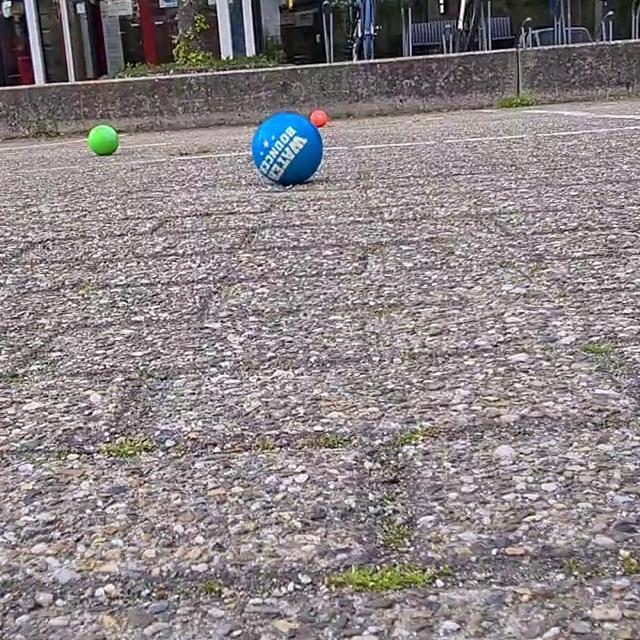ball: (84, 120, 121, 164), (308, 108, 332, 129)
